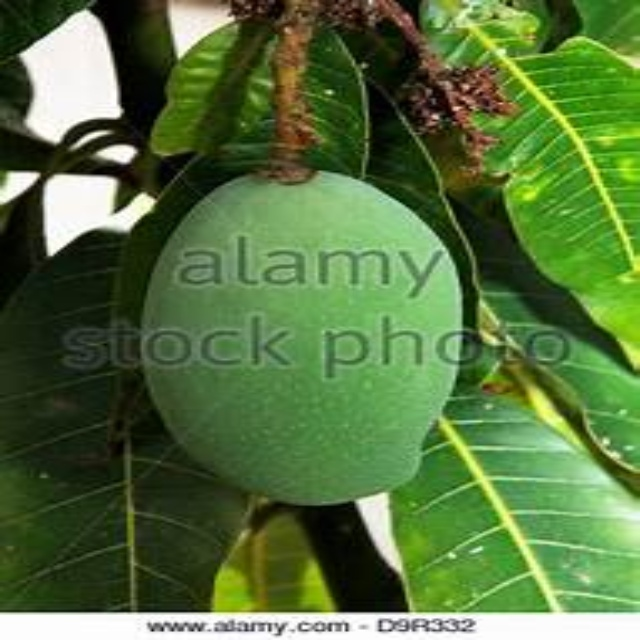mango: (147, 167, 459, 499)
